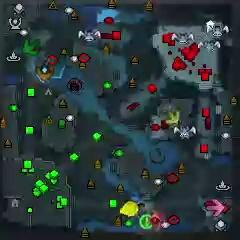p4: (119, 202, 139, 217)
x1: (205, 199, 224, 216)
x2: (166, 110, 180, 125)
x4: (23, 39, 42, 56)
x5: (36, 63, 55, 81)
